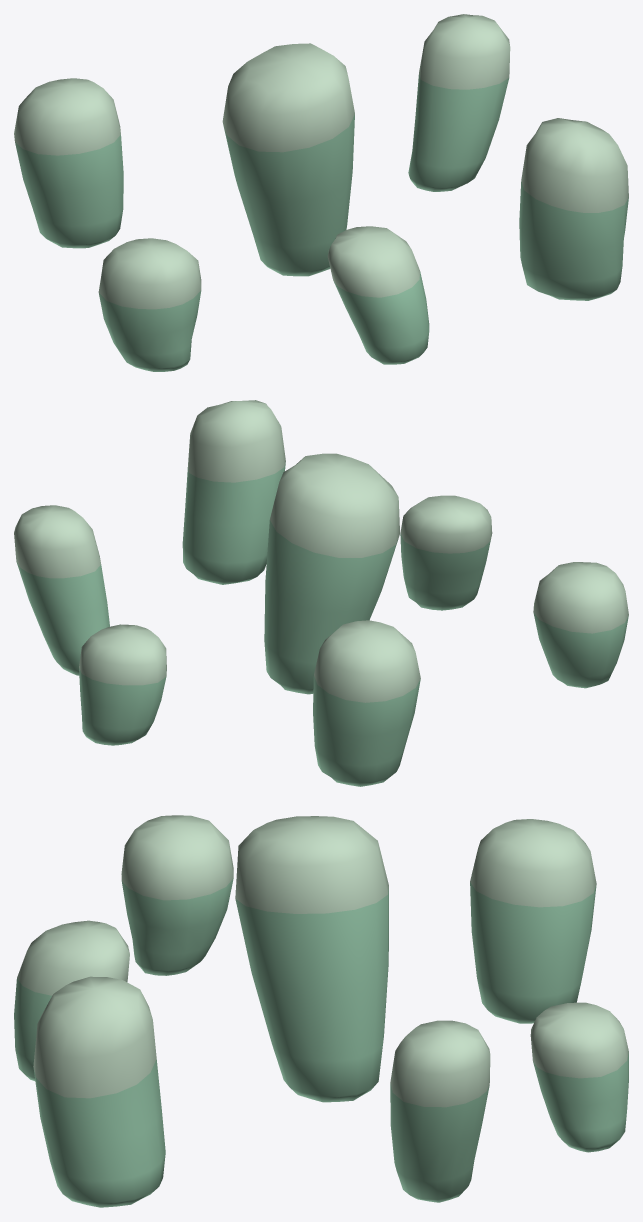
The model's file is Anemone_B_01.fbx.
3 renders of one model, top to bottom at view 1: azimuth 30°, elevation 25°; view 2: azimuth 150°, elevation 25°; view 3: azimuth 270°, elevation 25°, orthographic. The views are drawn at different scales.
Parts seen in each view (by area): view 1: Anemone_B_01_LOD0; view 2: Anemone_B_01_LOD0; view 3: Anemone_B_01_LOD0.
Part boxes in pixels (bbox=[...]): Anemone_B_01_LOD0: bbox=[14, 14, 628, 371]; Anemone_B_01_LOD0: bbox=[14, 400, 628, 786]; Anemone_B_01_LOD0: bbox=[14, 815, 628, 1207].
Size of what is drawn, in the model's own units: 602 by 248 by 535.
